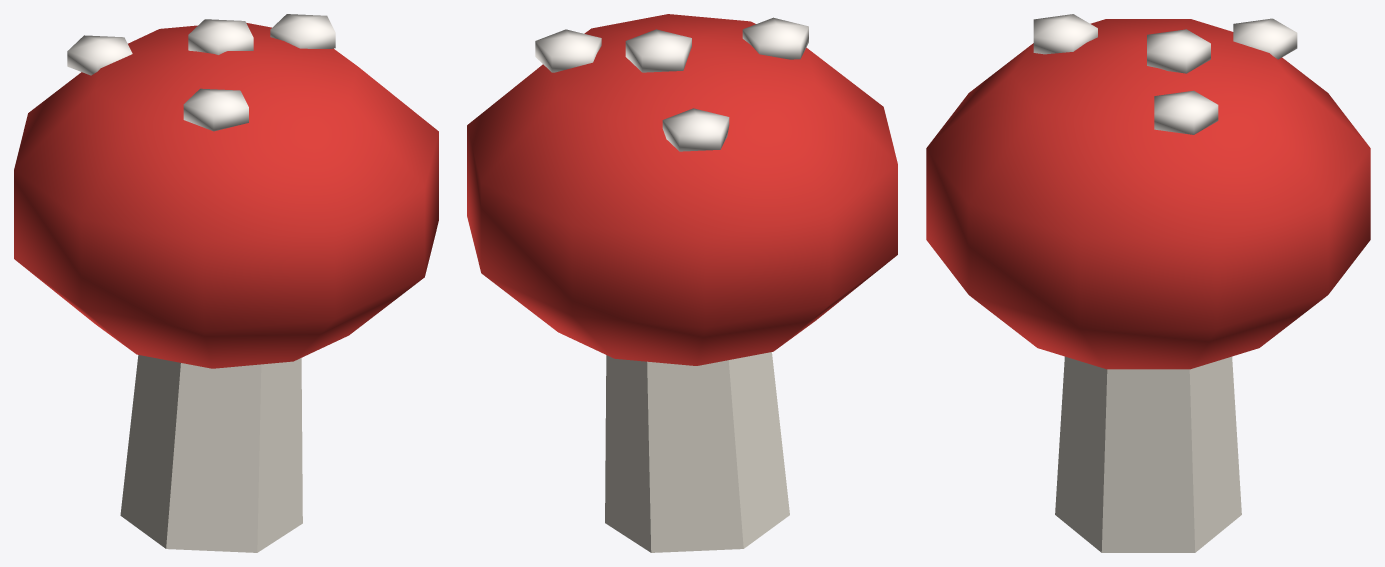
Rendered from Toadstool.fbx.
The picture shows the model from 3 angles, left to right: view 1: azimuth 30°, elevation 25°; view 2: azimuth 150°, elevation 25°; view 3: azimuth 270°, elevation 25°; orthographic projection. The views are drawn at different scales.
Visible parts, largest first — view 1: Frame; view 2: Frame; view 3: Frame.
Part boxes in pixels (x1,y1,x2,y2): Frame: (14, 14, 438, 552); Frame: (467, 14, 897, 552); Frame: (926, 14, 1370, 552).
Size of the model in its own units: 0.7236 by 0.9354 by 0.7608.
Materials: 1 (1 with a texture image).
